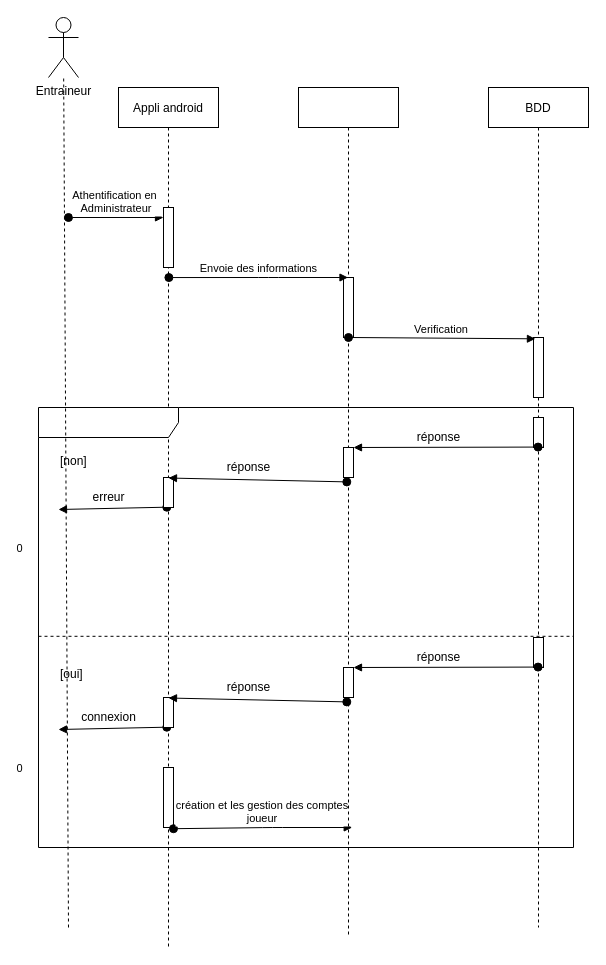
This 606x965 diagram has some shape labels left out. The box of each missing label's shape, as (x1, y1, x2, y2) in pixels:
compte existant ?: (38, 406, 574, 848)
Raspbery: (298, 86, 398, 938)
